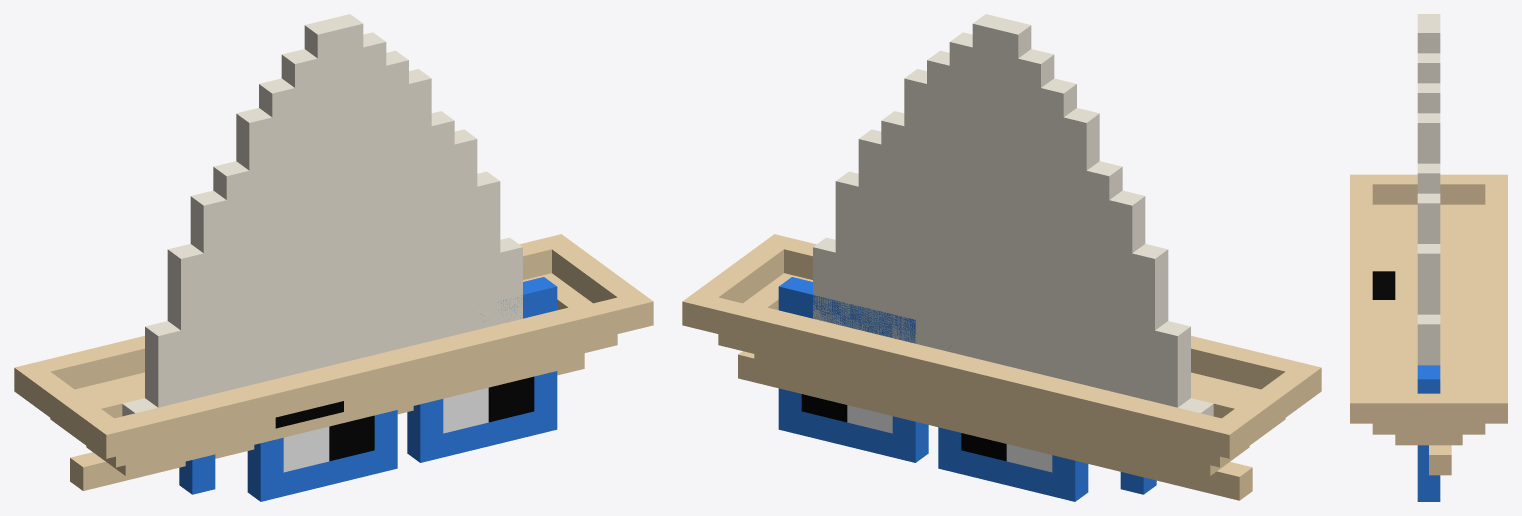
Rendered from sailboat.glb.
The picture shows the model from 3 angles, left to right: view 1: azimuth 30°, elevation 25°; view 2: azimuth 150°, elevation 25°; view 3: azimuth 270°, elevation 25°; orthographic projection. The views are drawn at different scales.
Visible parts, largest first — view 1: base, glasses, layer-2, side, s3; view 2: base, glasses, s3, side, layer-2; view 3: base, glasses, side.
Part boxes in pixels (bbox=[...]): base: bbox=[14, 14, 653, 475]; glasses: bbox=[179, 277, 557, 501]; layer-2: bbox=[283, 376, 534, 472]; side: bbox=[70, 353, 584, 490]; s3: bbox=[106, 370, 561, 485]; base: bbox=[682, 14, 1321, 475]; glasses: bbox=[778, 277, 1156, 501]; s3: bbox=[761, 366, 1216, 492]; side: bbox=[738, 351, 1252, 500]; layer-2: bbox=[801, 394, 1052, 472]; base: bbox=[1350, 14, 1507, 445]; glasses: bbox=[1417, 365, 1440, 501]; side: bbox=[1429, 445, 1451, 475].
Bounding box in the file's own units: 24 × 19 × 7.
Materials: 7 (7 with a texture image).
